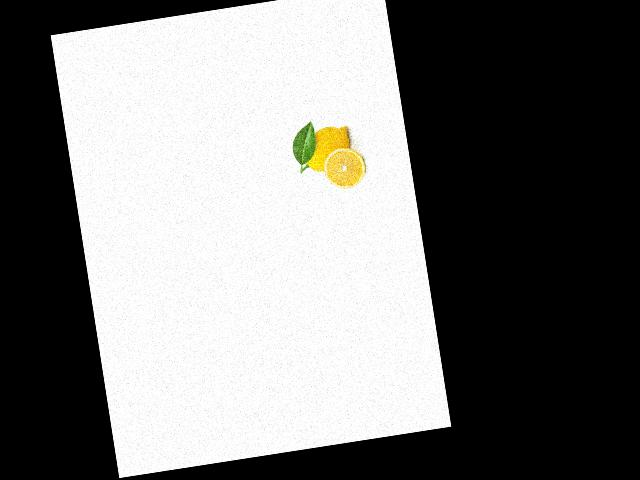lemon: (294, 121, 356, 177)
